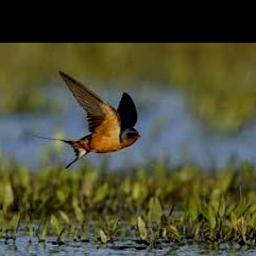Swallow: (34, 71, 140, 169)
